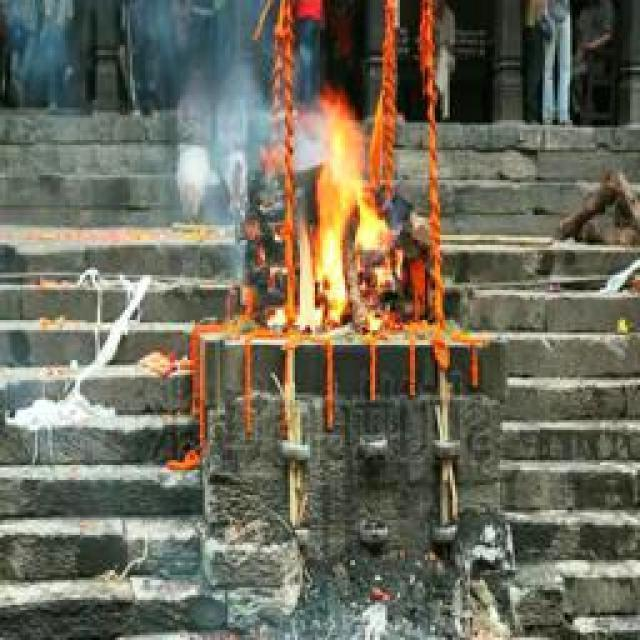Fire: (290, 103, 391, 337)
